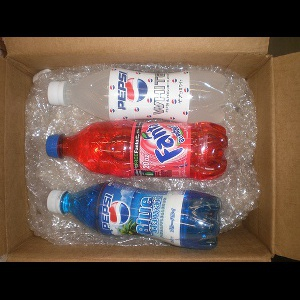emptybottle: (43, 182, 220, 250), (44, 68, 228, 124), (46, 122, 228, 177)
